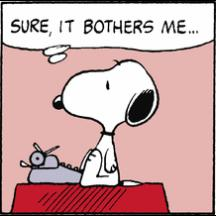snoopy: (52, 59, 160, 189)
